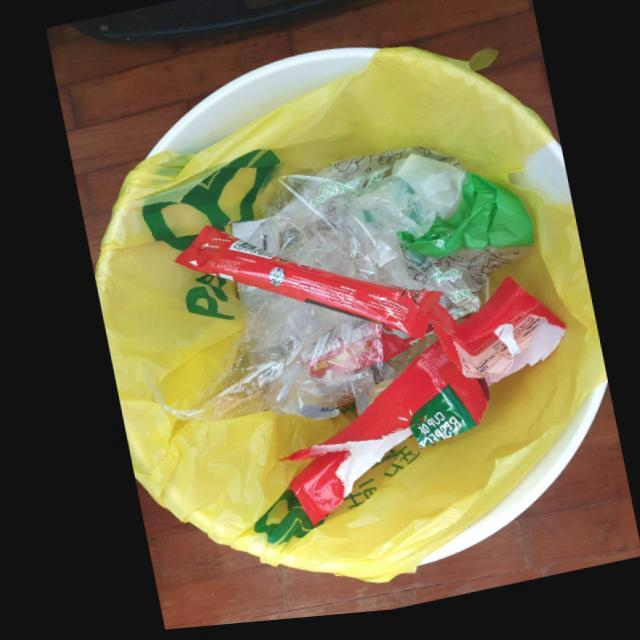food_wrapper: (271, 286, 560, 530), (170, 228, 438, 347)
plastic_bag: (245, 153, 529, 328), (157, 285, 378, 425)
